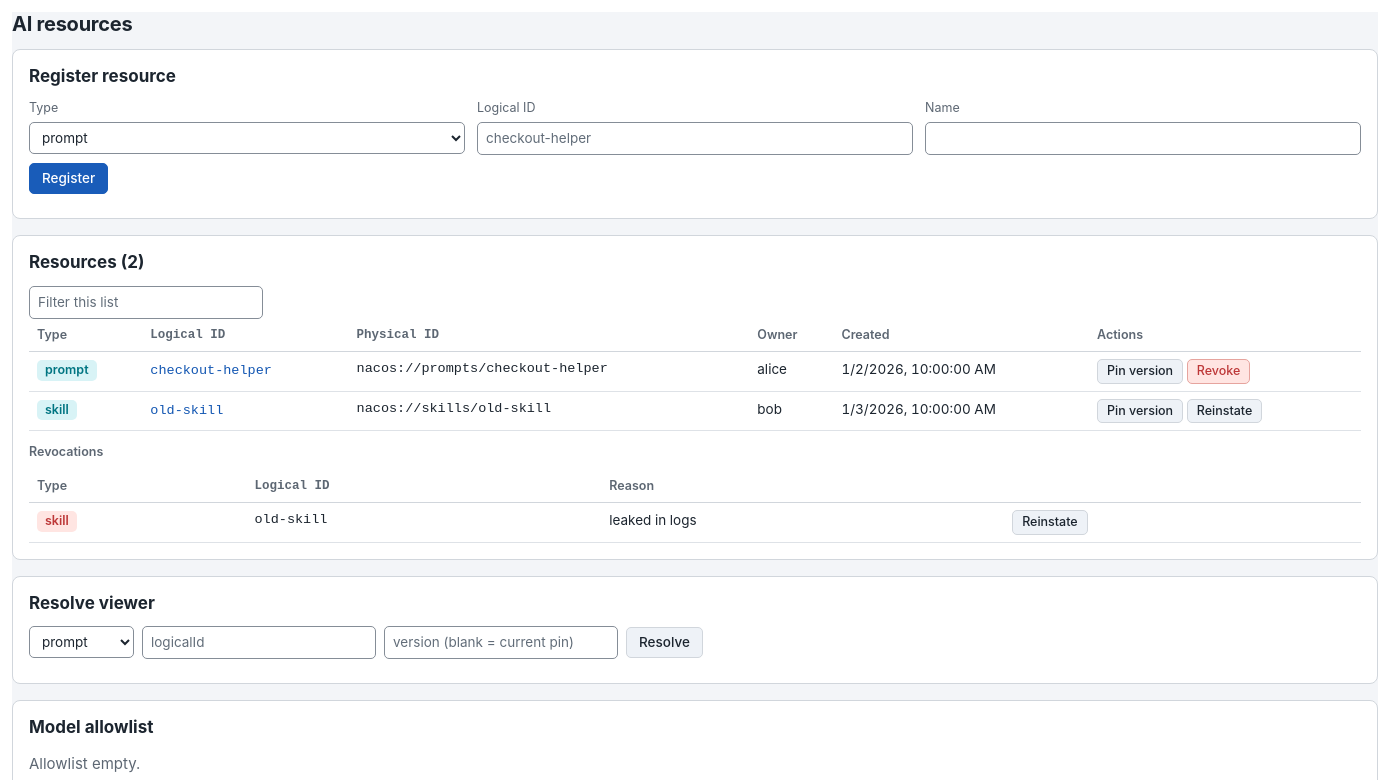
AiPage list › registers a resource with the exact body
The image size is (1378, 780).
In the field with placeholder "checkout-helper": (695, 138) [477, 122, 913, 155], type "summarizer"
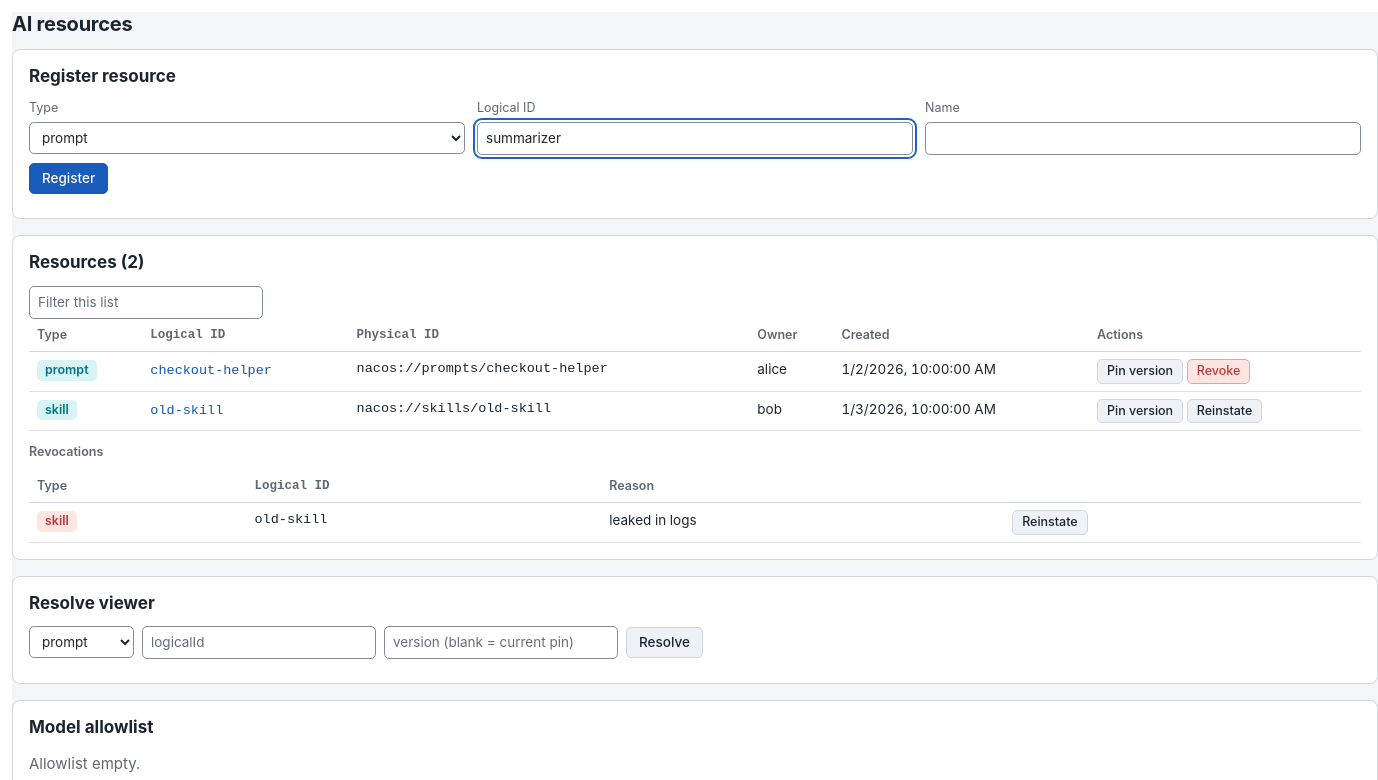
In the field labelled "Name": (1143, 138) [925, 122, 1361, 155], type "Summarizer"
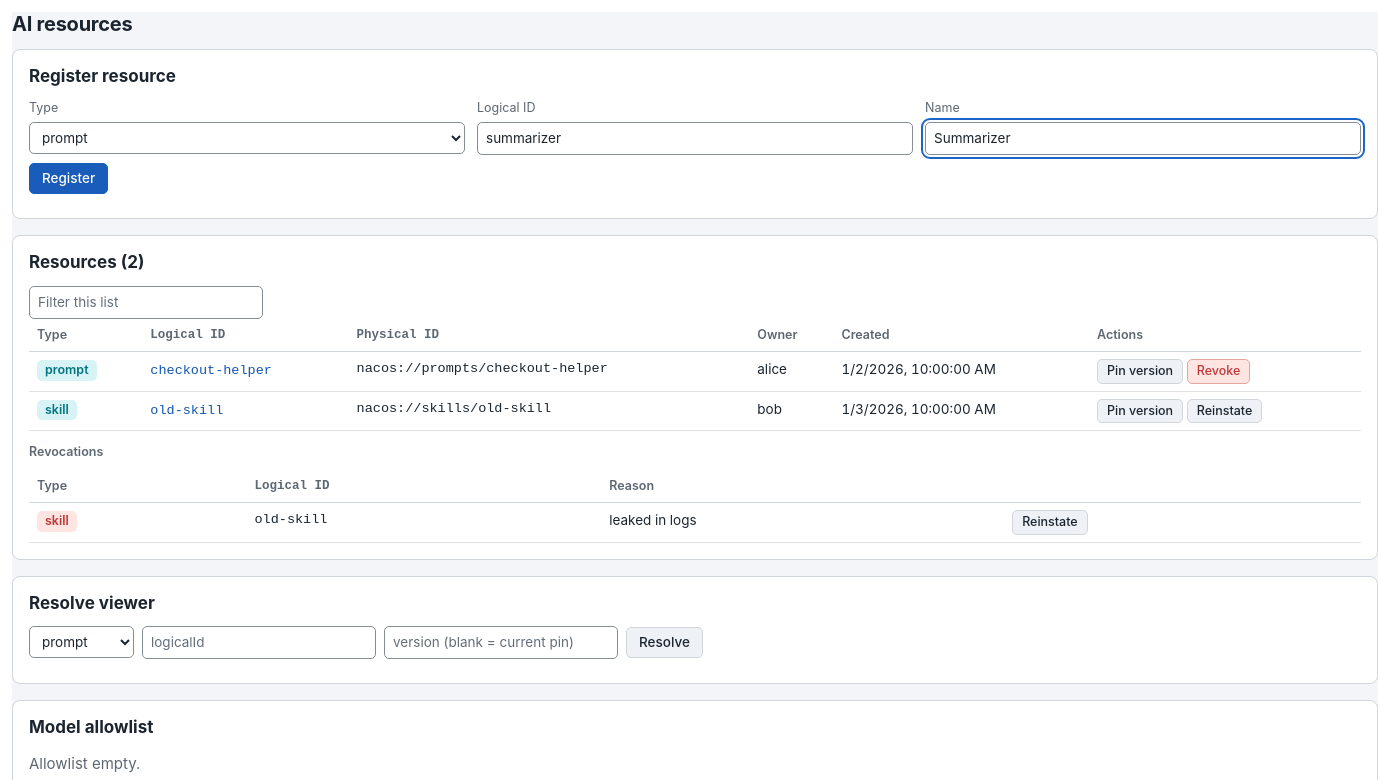
Click the button "Register": (69, 179) [29, 163, 108, 194]
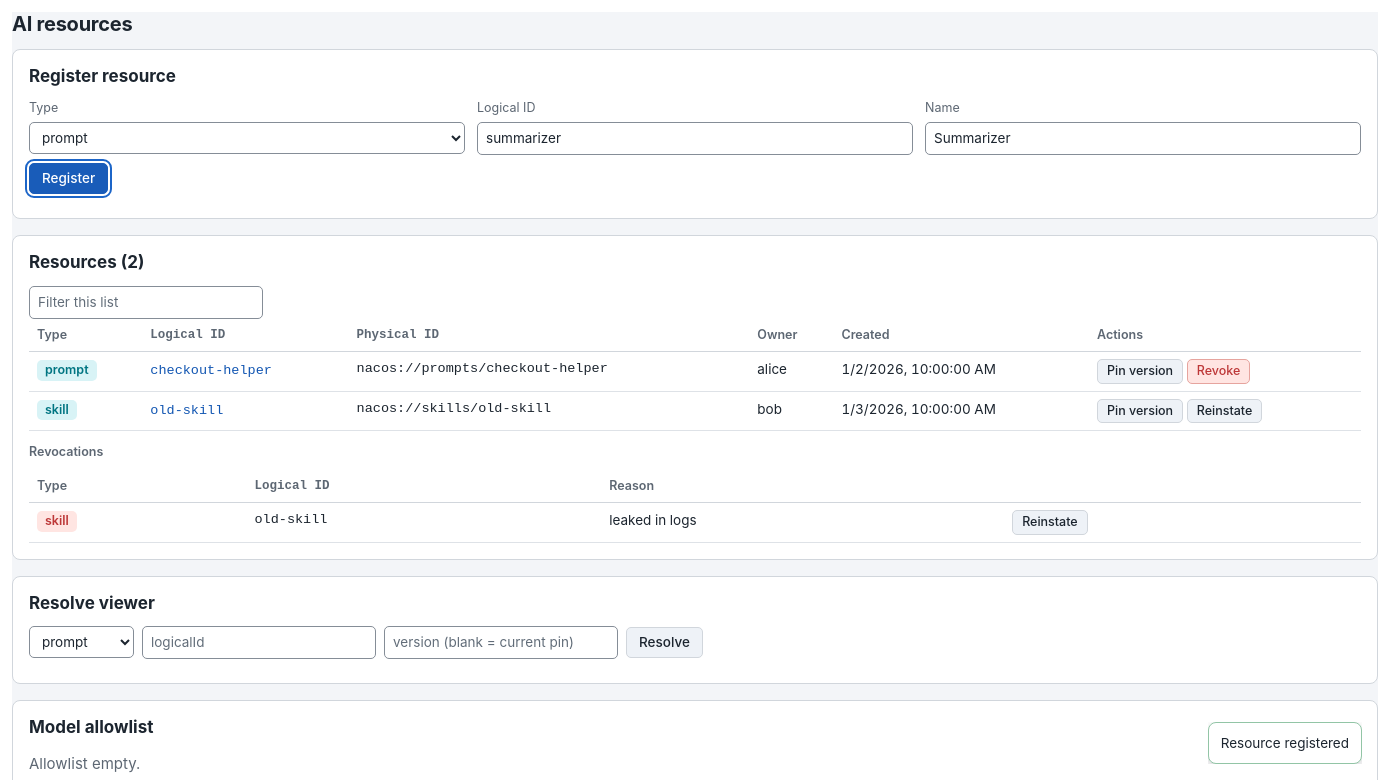
Now the text "Resource registered" is shown, box [1208, 722, 1362, 764]
